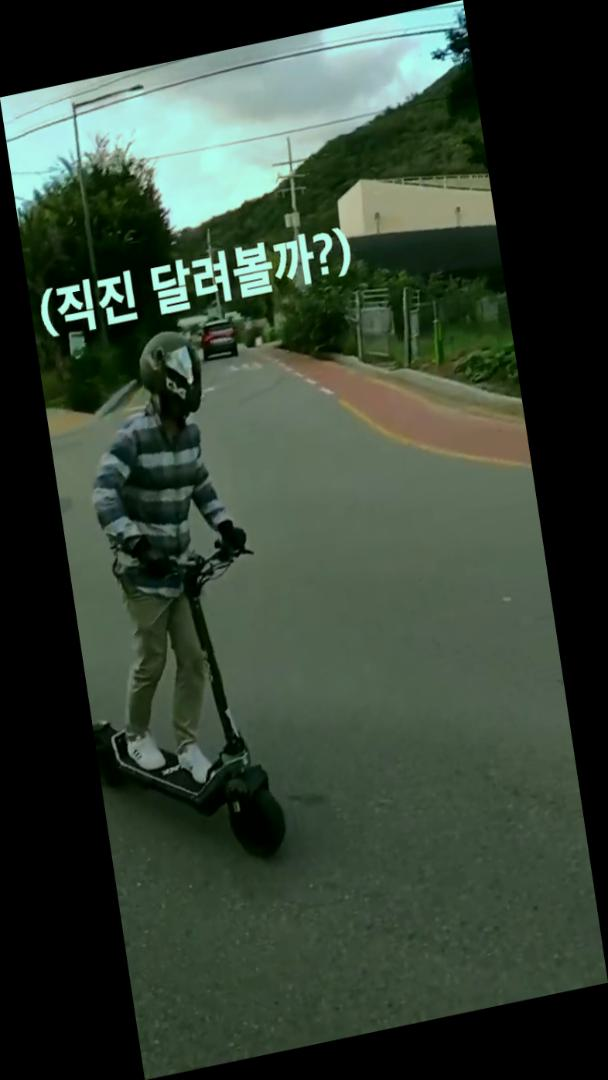helmet: (39, 318, 301, 892)
